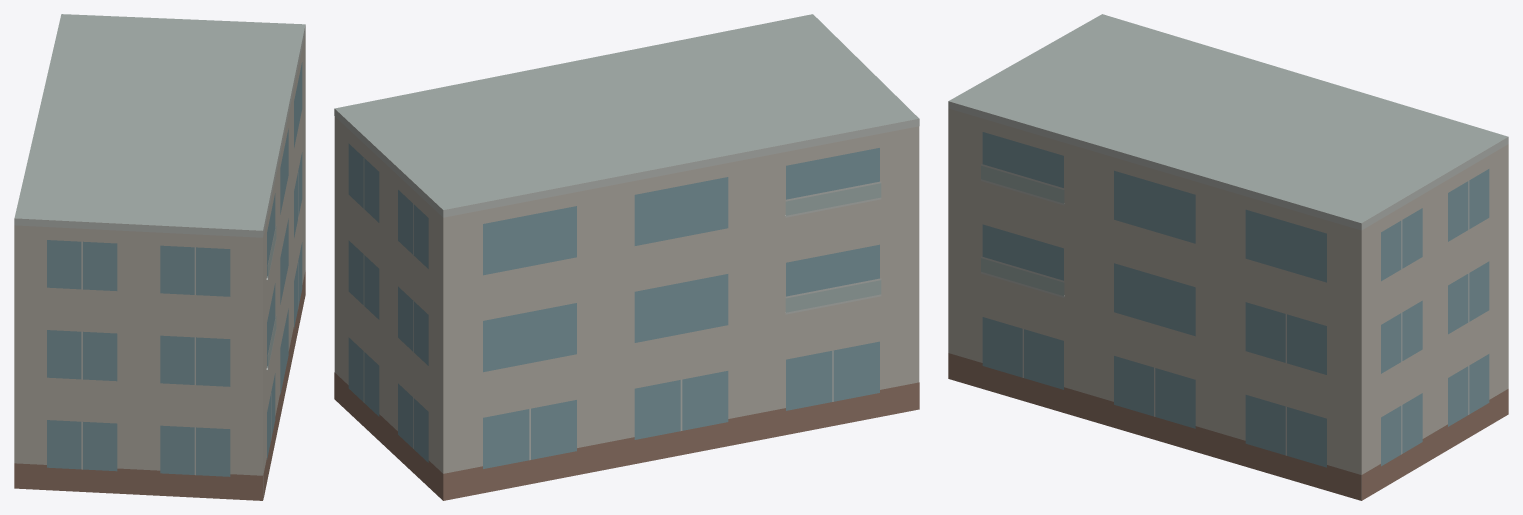
File: survey-upis-32912698.glb
3 renders of one model, left to right at view 1: azimuth 30°, elevation 25°; view 2: azimuth 150°, elevation 25°; view 3: azimuth 270°, elevation 25°, orthographic. The views are drawn at different scales.
Visible parts, largest first — view 1: survey-upis-32912698.tmp; view 2: survey-upis-32912698.tmp; view 3: survey-upis-32912698.tmp.
Part boxes in pixels (x1,y1,x2,y2): survey-upis-32912698.tmp: [14, 14, 305, 500]; survey-upis-32912698.tmp: [334, 14, 919, 500]; survey-upis-32912698.tmp: [948, 14, 1508, 500].
Size of the model in its own units: 15.21 by 9.4 by 17.2.
